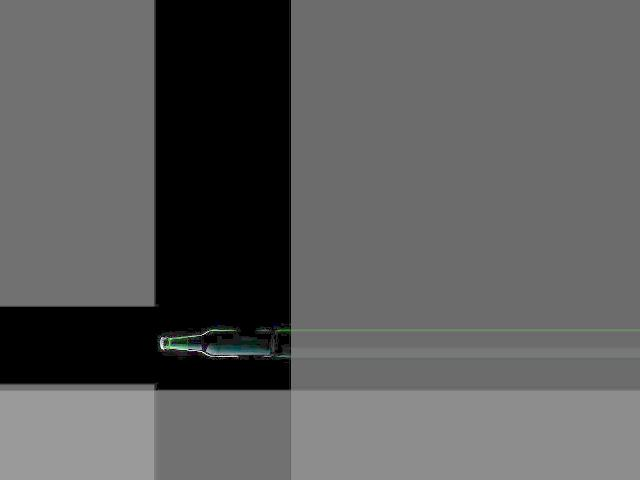beer: (159, 330, 272, 358)
